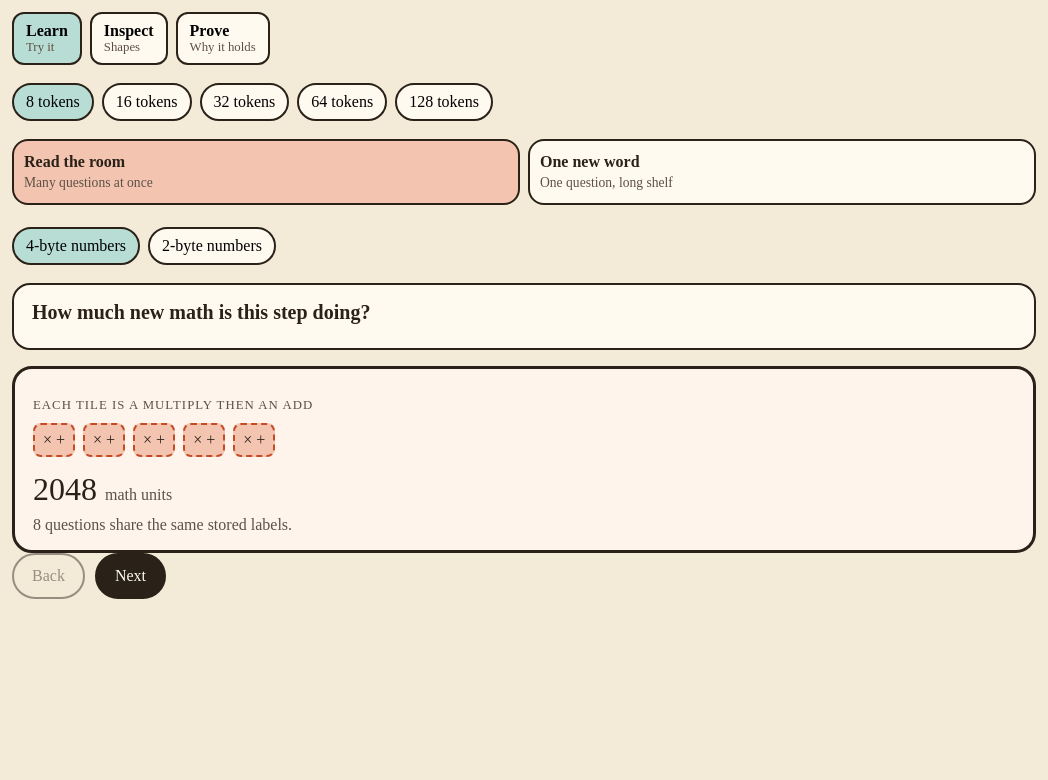
Test: experiment 03 playground › names intensity only after both piles are seen
Click the button "Next" at (130, 576), box [95,553,166,599]
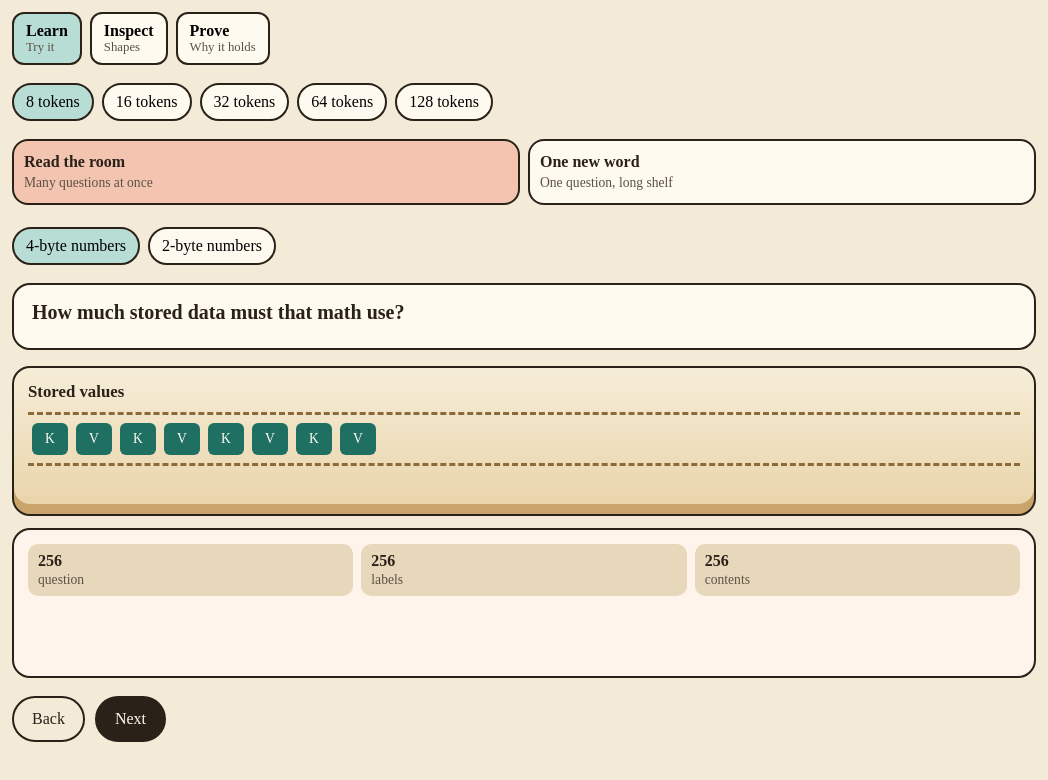
Click the button "Next" at (130, 719), box [95,696,166,742]
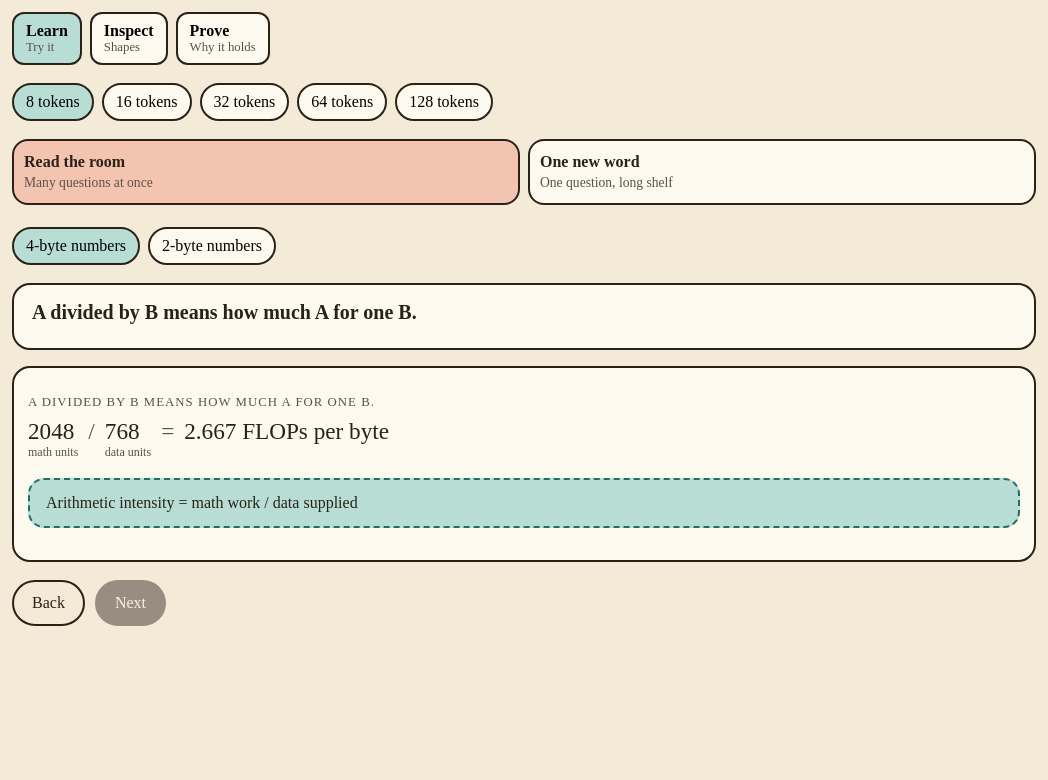
Check: the text "Arithmetic intensity = math work / data supplied" is shown, box [46,494,358,511]
